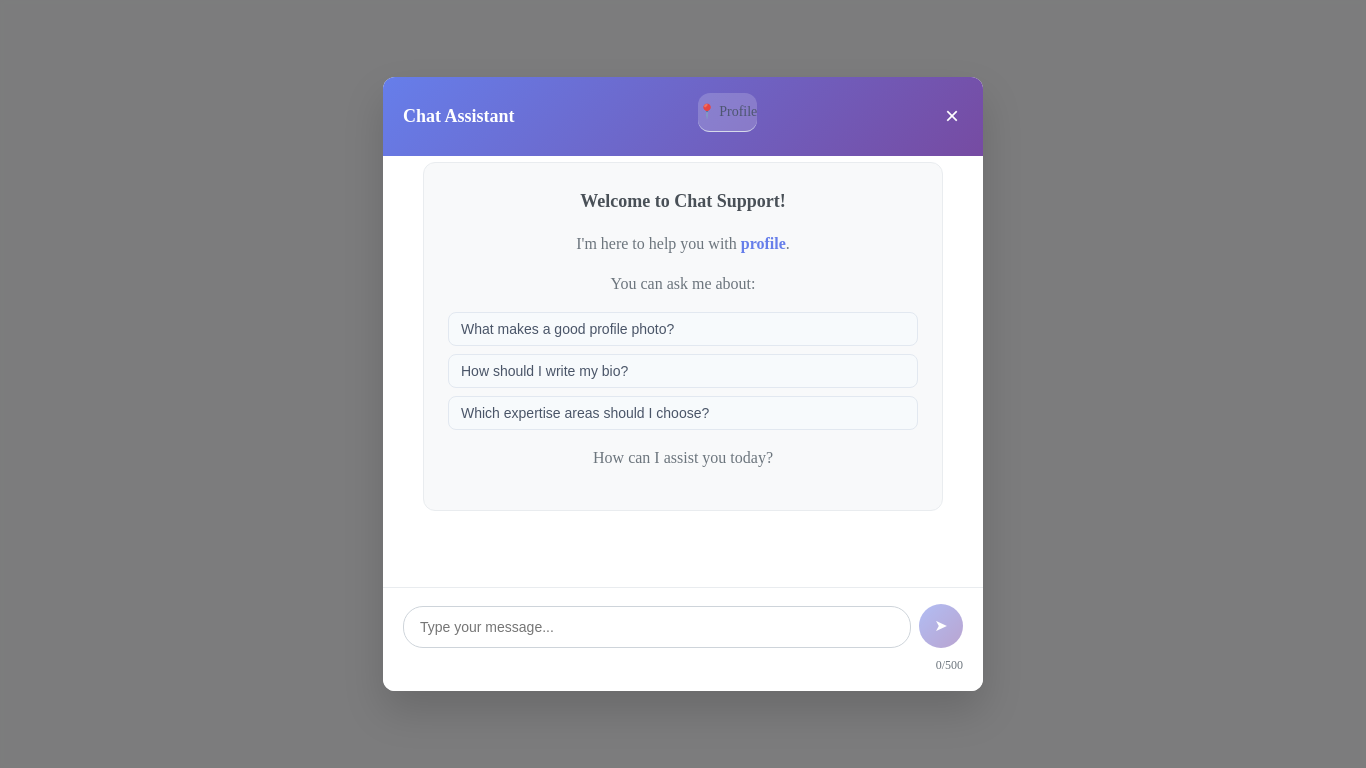
Chat Context Integration › Source Attribution › should display source information when available
(page scrolled)
In the field with placeholder "Type your message...": point(657, 627) [403,606,911,648], type "Tell me about profile photos"
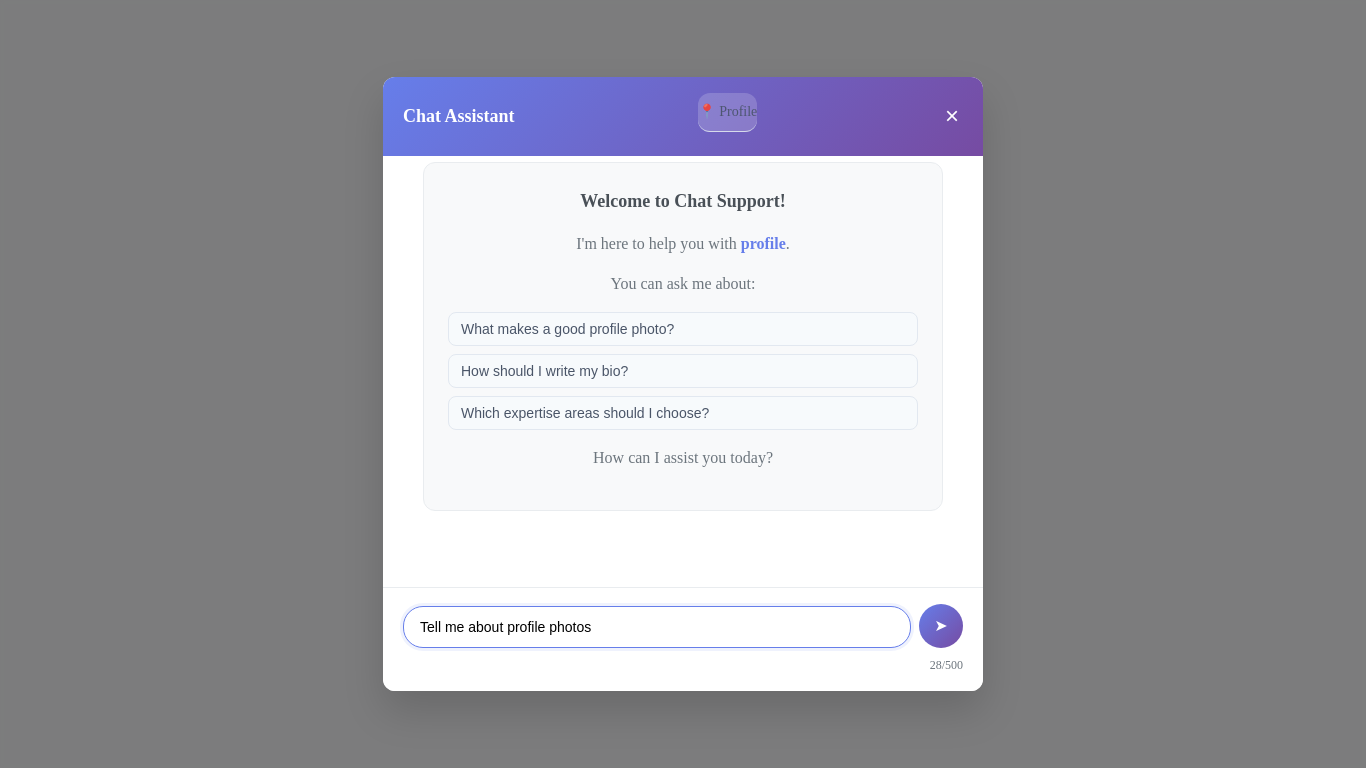
Click the button named "Send message": point(941, 626) [919,604,963,648]
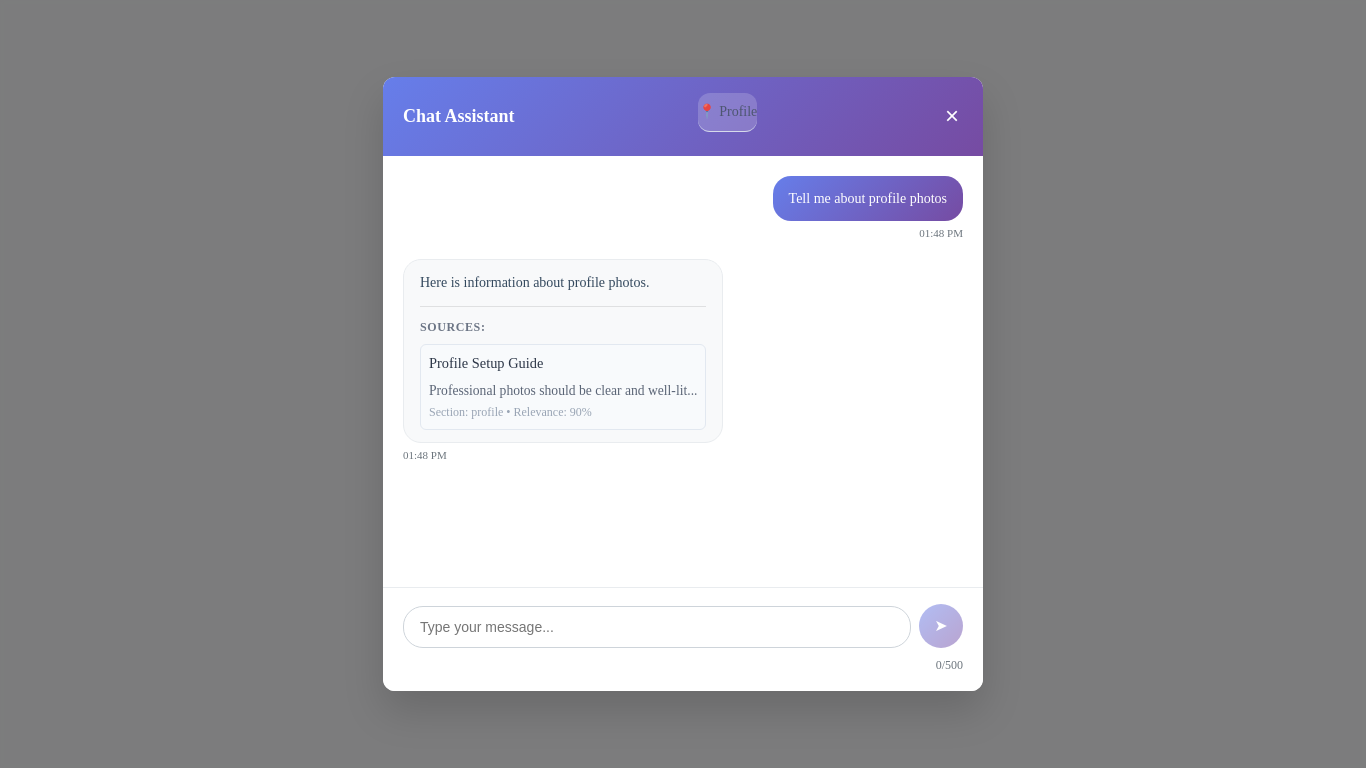
Now the text "Sources:" is shown, box [420,320,486,334]
Now the text "Profile Setup Guide" is shown, box [429,355,543,371]
Now the text "Professional photos should be clear and well-lit..." is shown, box [429,381,697,400]
